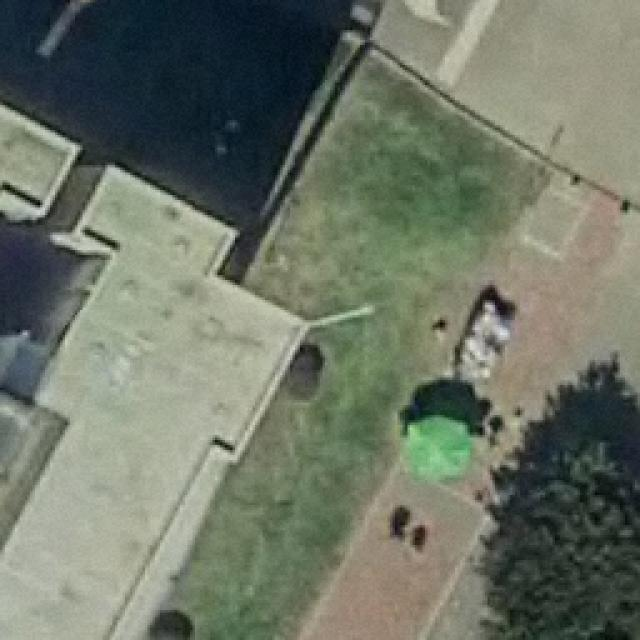vendedor_ambulante: (403, 411, 475, 491)
